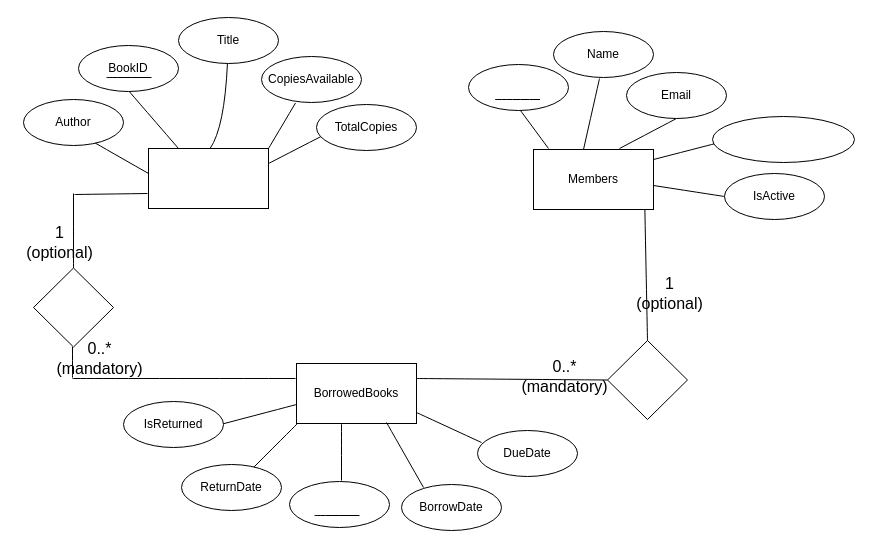
The diagram is 872 pixels wide and 548 high, and some of its shapes have lost their labels. Here are the shapes that lost their labels. From the top down, the box of each, then its label:
(468, 64, 568, 110): MemberID
(712, 116, 854, 162): TotalBooksBorrowed
(148, 148, 268, 208): Books
(32, 267, 114, 347): has
(606, 340, 688, 420): borrows
(288, 480, 390, 528): BorrowID
